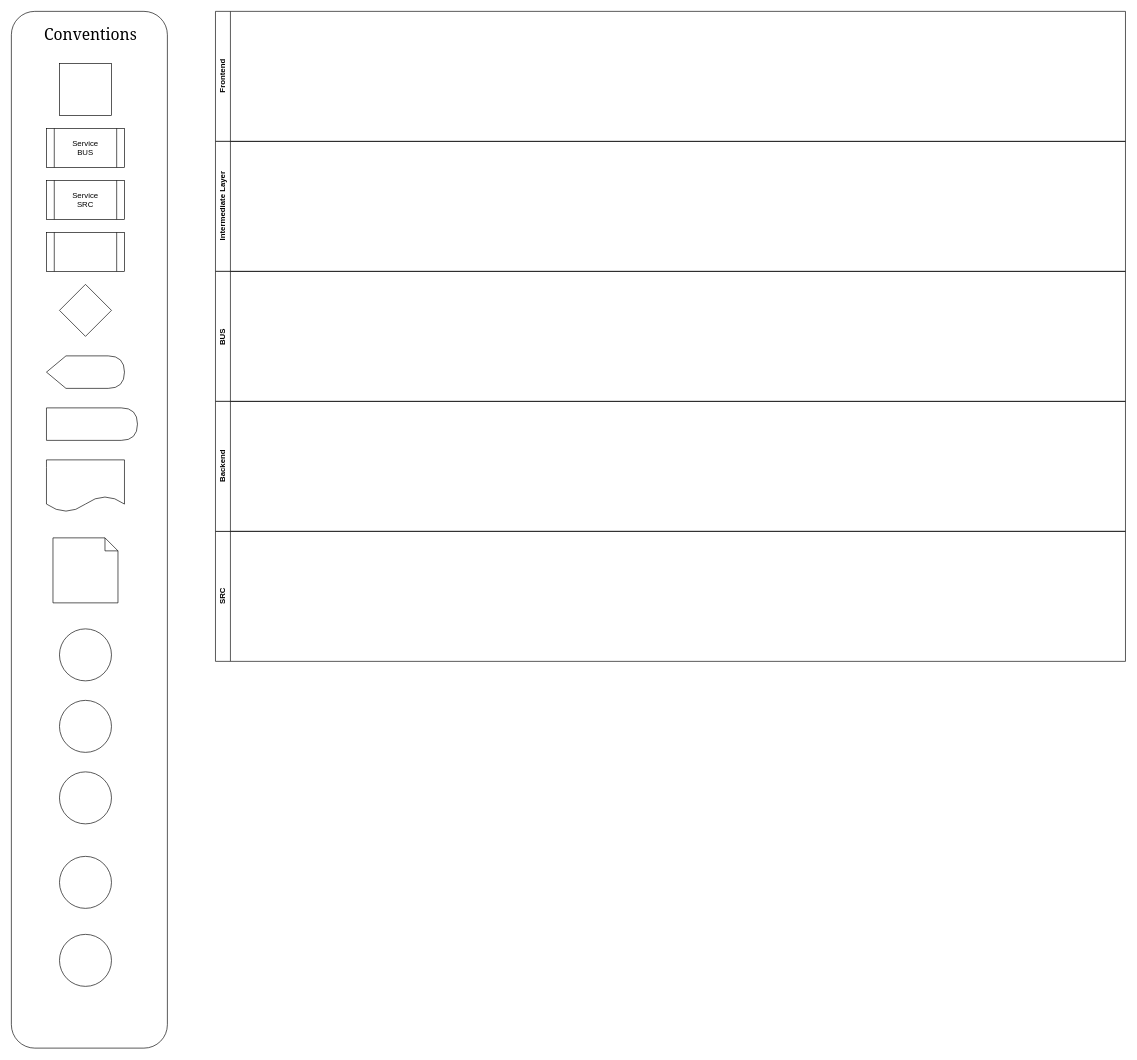
Some shapes in this 1137 by 1060 pixel diagram are drawn without their labels. The centre of each missing label's shape, as x and y in pixels:
"Decision" goes at point (85, 310).
"Document / Process" goes at point (85, 485).
"Note" goes at point (85, 570).
"Screen / View" goes at point (85, 89).
